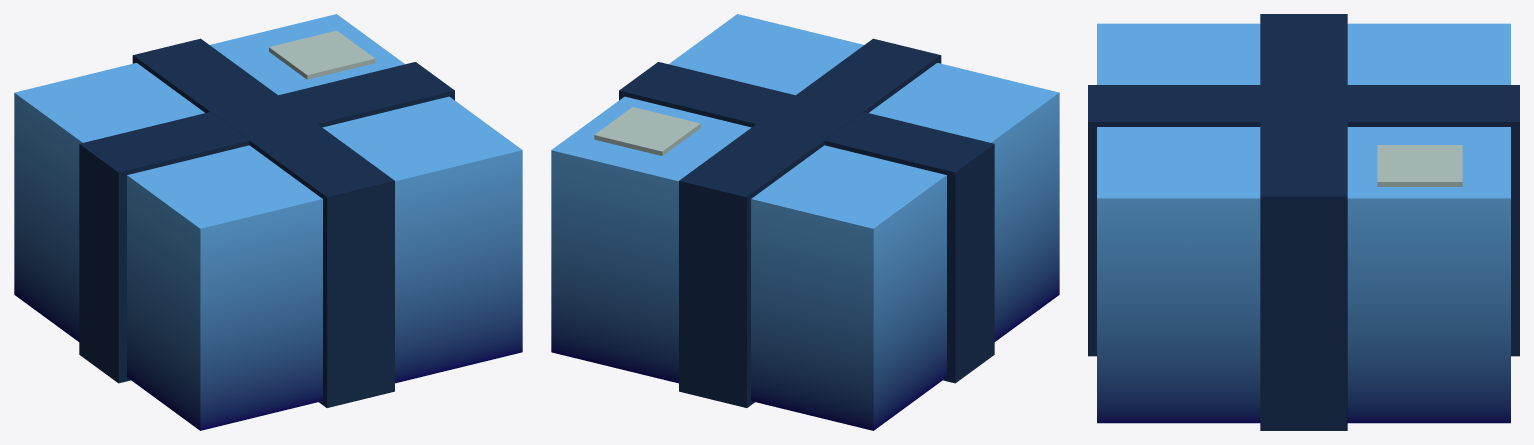
Rendered from Portable Cardbox.glb.
The picture shows the model from 3 angles, left to right: view 1: azimuth 30°, elevation 25°; view 2: azimuth 150°, elevation 25°; view 3: azimuth 270°, elevation 25°; orthographic projection. The views are drawn at different scales.
Parts seen in each view (by area): view 1: Cube, Cube.001, Cube.003, Cube.002; view 2: Cube, Cube.001, Cube.003, Cube.002; view 3: Cube, Cube.003, Cube.001, Cube.002.
Boxes of the visible parts, x1,y1,x2,y2 form: Cube: [14, 14, 522, 430]; Cube.001: [132, 38, 394, 407]; Cube.003: [79, 62, 454, 383]; Cube.002: [269, 30, 375, 79]; Cube: [551, 14, 1059, 430]; Cube.001: [679, 38, 941, 407]; Cube.003: [619, 62, 994, 383]; Cube.002: [594, 107, 700, 155]; Cube: [1097, 23, 1510, 423]; Cube.003: [1260, 14, 1347, 430]; Cube.001: [1088, 85, 1519, 356]; Cube.002: [1377, 145, 1462, 186].
Size of the model in its own units: 2.09 by 1.25 by 2.09.
Materials: 3 (2 with a texture image).
